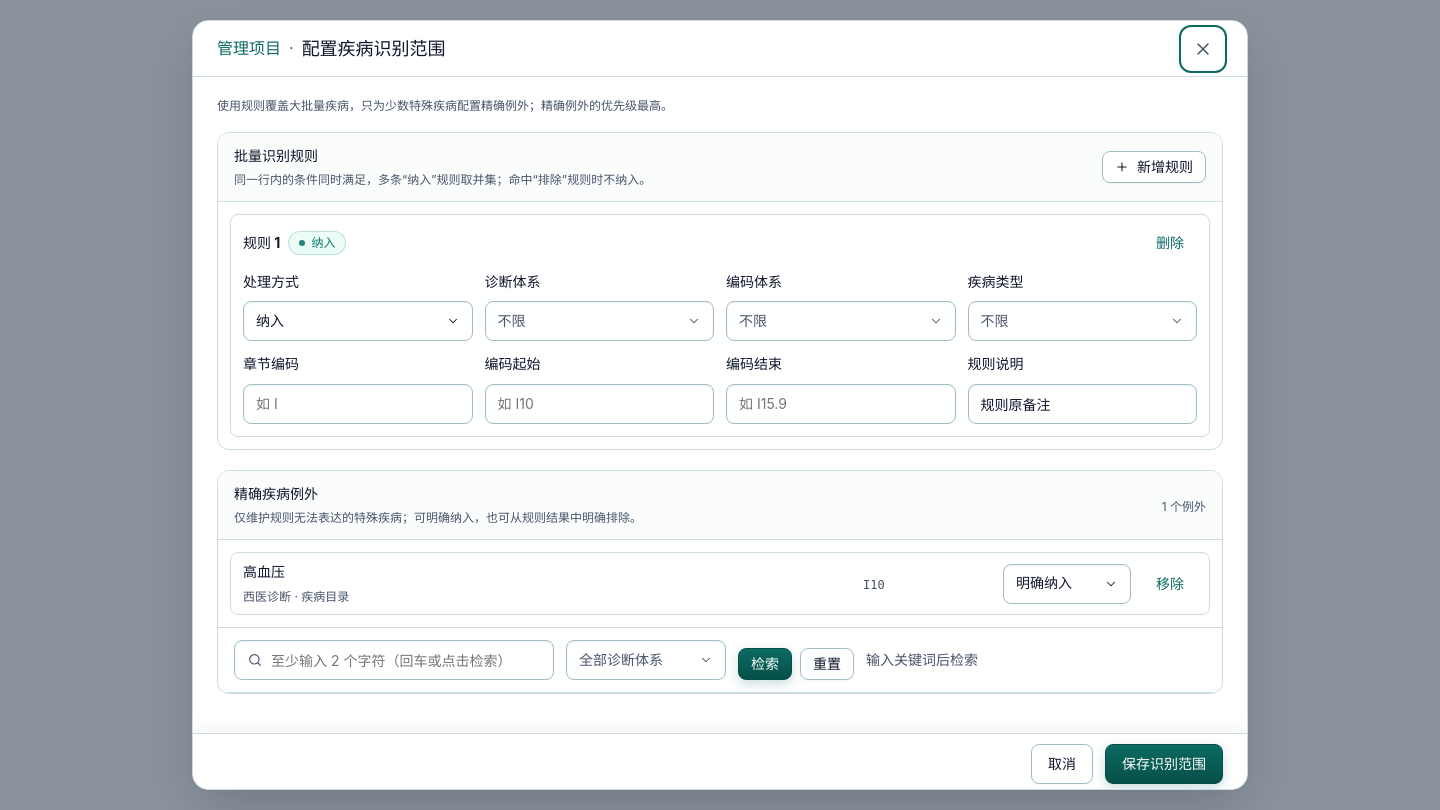
Test case: disease scope save workflow › keeps the editor open on unconfirmed receipt 0
This screenshot has width=1440, height=810.
Click the button "保存识别范围".
click(1164, 764)  # box [1105,744,1223,784]
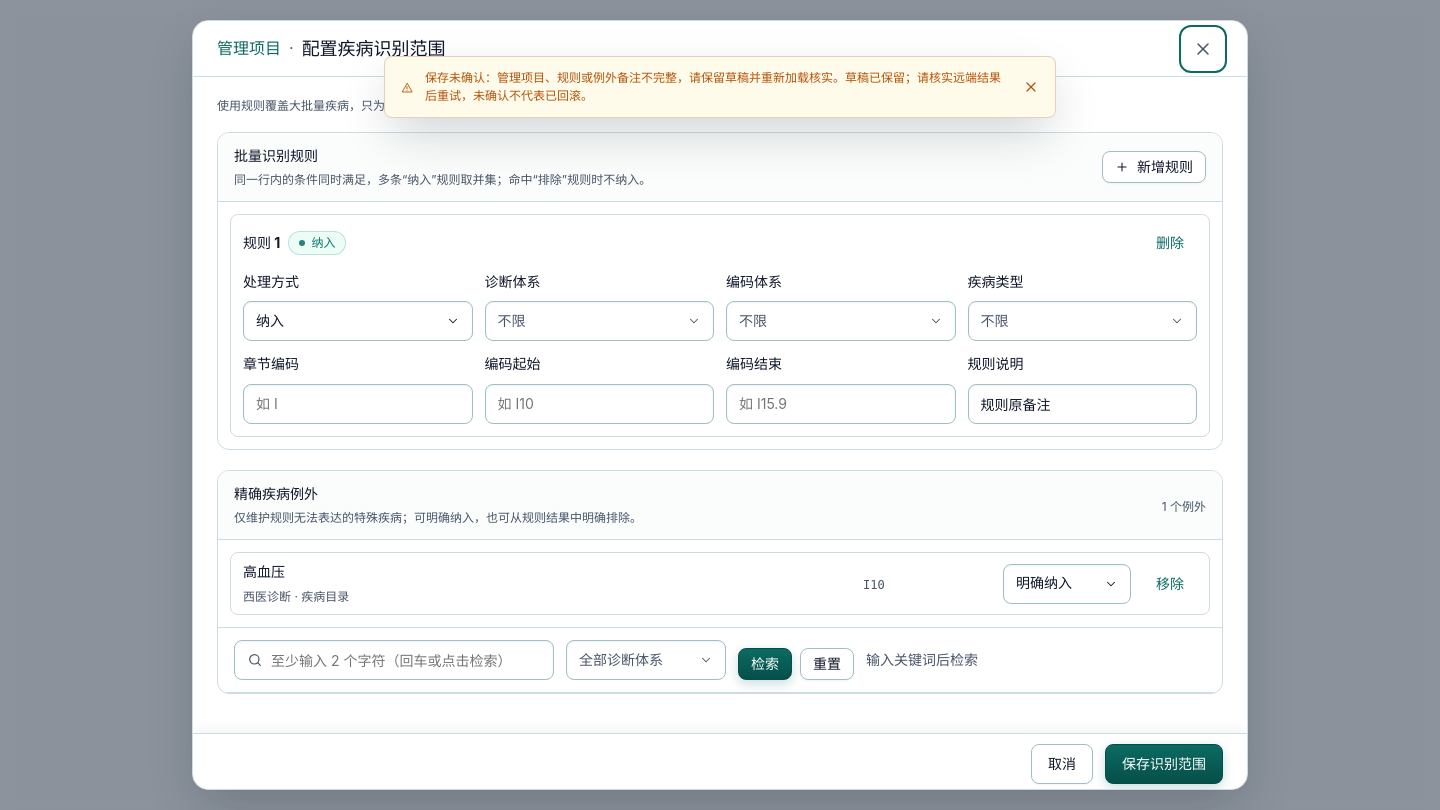
Expected: the field with placeholder "便于后续审查" holds "规则原备注", [968,384,1197,424]
Expected: the message shows "保存未确认", [425,70,1001,103]
Expected: the message shows "未确认不代表已回滚", [425,70,1001,103]
